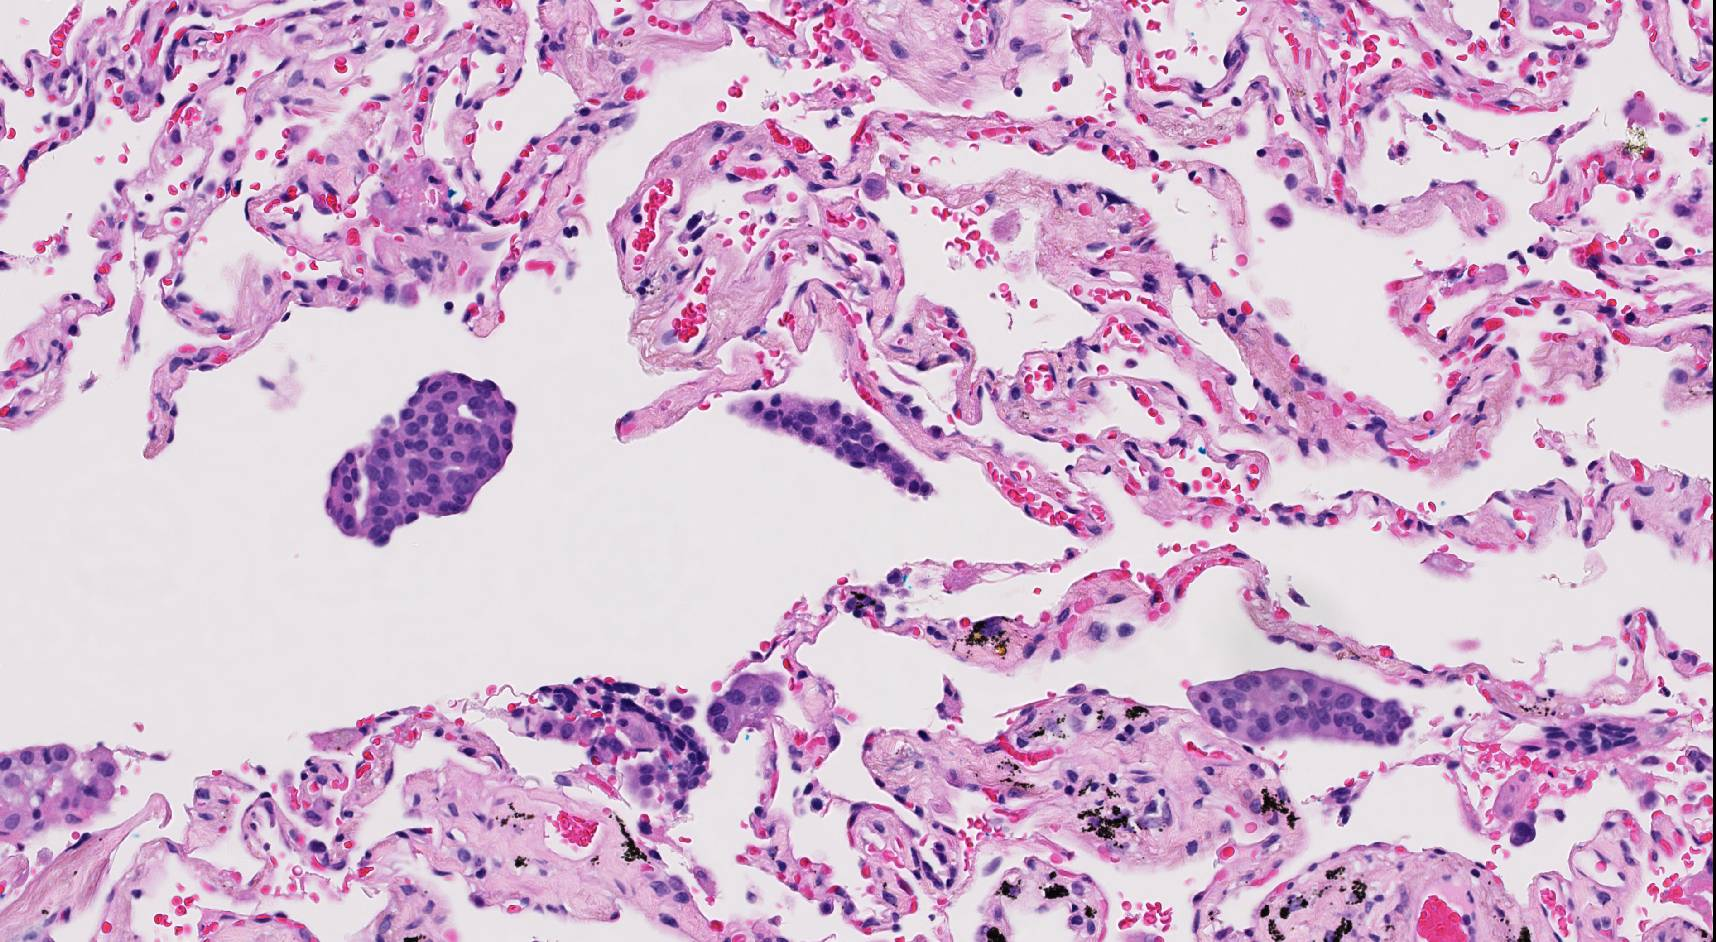stas: (320, 370, 517, 549), (513, 669, 714, 814), (730, 388, 935, 501), (1179, 666, 1417, 749), (706, 671, 789, 740)
